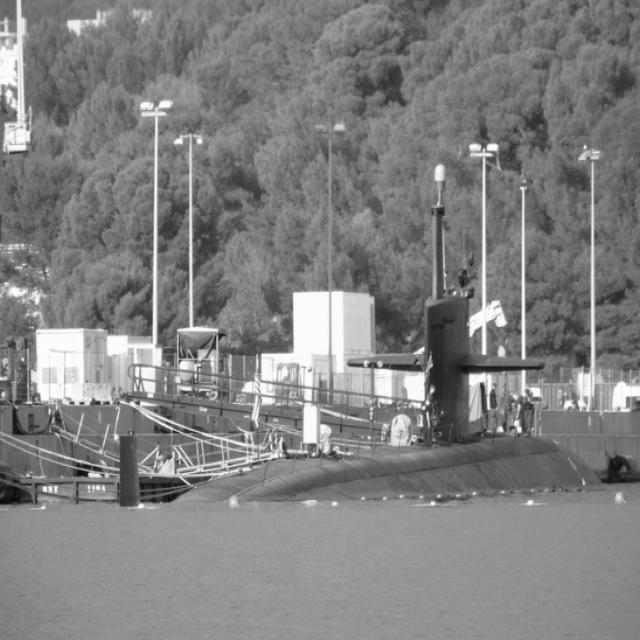submarine: (115, 190, 617, 495)
